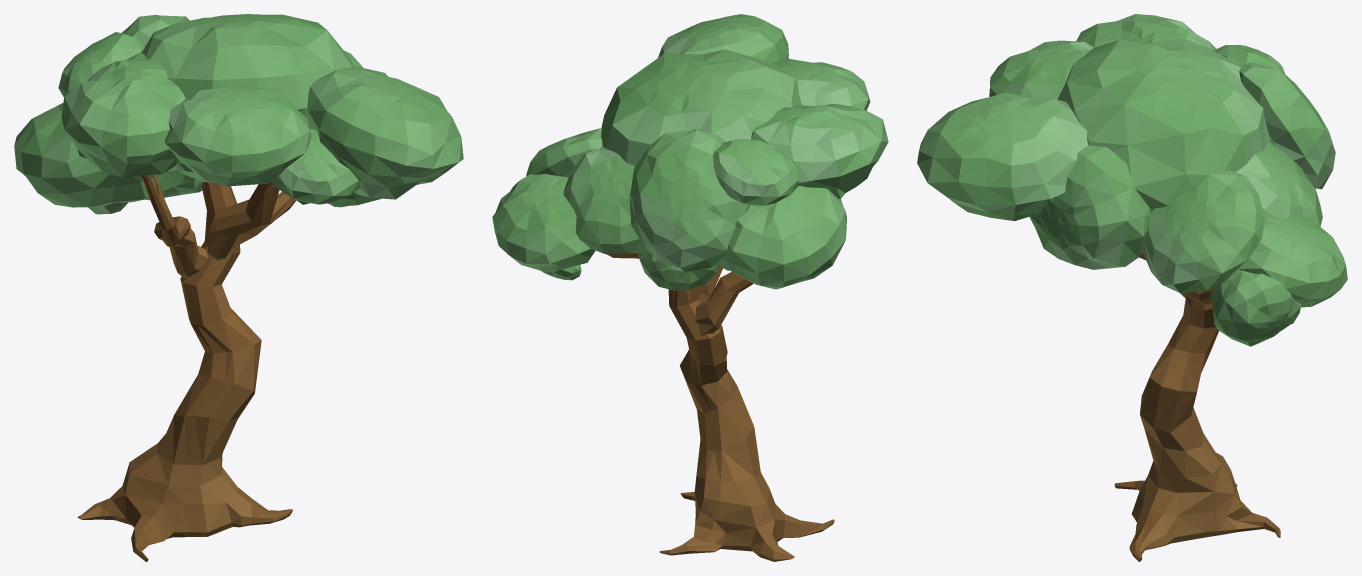
The model's file is tree_1_a.obj.
3 views of the same model, side by side, from view 1: azimuth 30°, elevation 25°; view 2: azimuth 150°, elevation 25°; view 3: azimuth 270°, elevation 25° (orthographic). The views are drawn at different scales.
Visible parts, largest first — view 1: crown_1_a_Material, trunk_1_a_Material; view 2: crown_1_a_Material, trunk_1_a_Material; view 3: crown_1_a_Material, trunk_1_a_Material.
Boxes of the visible parts, <box> form: crown_1_a_Material: <box>14,14,463,214</box>; trunk_1_a_Material: <box>77,174,296,561</box>; crown_1_a_Material: <box>492,14,888,290</box>; trunk_1_a_Material: <box>606,252,834,561</box>; crown_1_a_Material: <box>917,14,1347,346</box>; trunk_1_a_Material: <box>1114,251,1280,561</box>.
Size of the model in its own units: 4.06 by 5.28 by 4.24.
